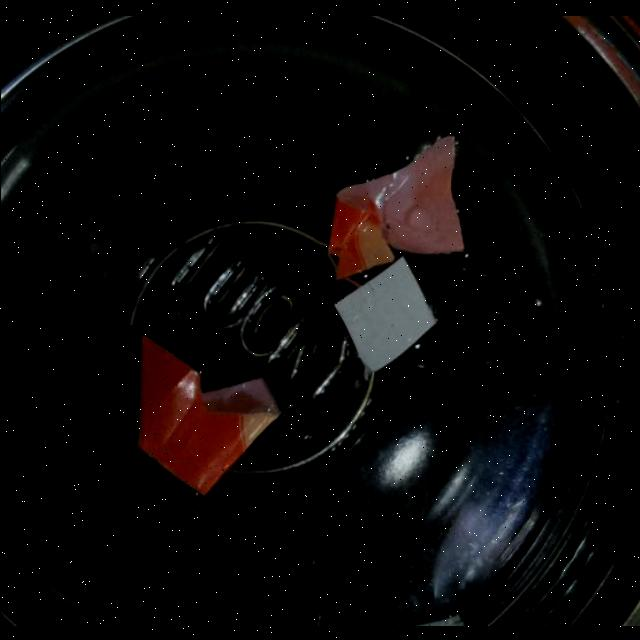Fragment: (136, 334, 278, 496), (326, 132, 462, 276), (332, 256, 436, 374)
